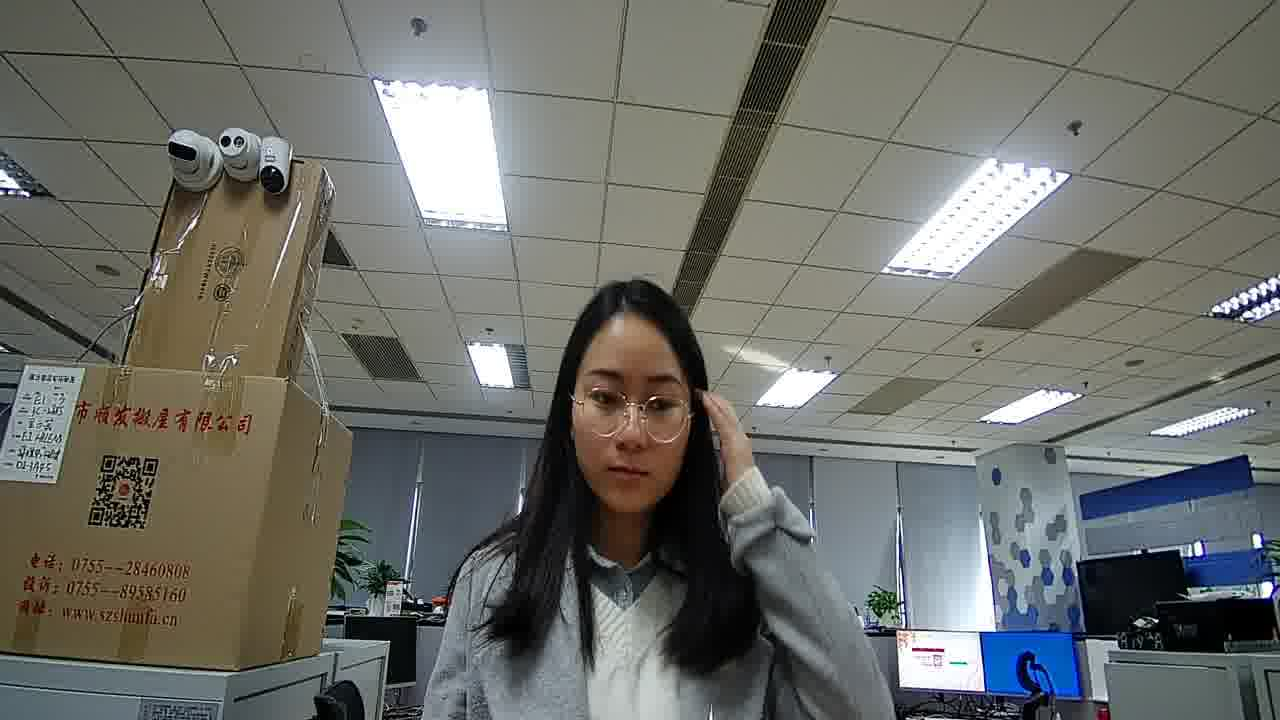face: (548, 313, 713, 512)
person: (450, 253, 774, 639)
